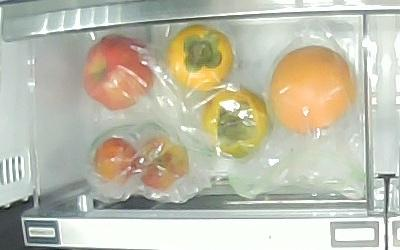apple_vinyl: (81, 33, 153, 111)
grapefruit_vinyl: (271, 46, 355, 135)
persimmon_vinyl: (203, 85, 273, 158), (166, 24, 234, 93)
prune_vinyl: (138, 137, 190, 192), (93, 137, 138, 185)
